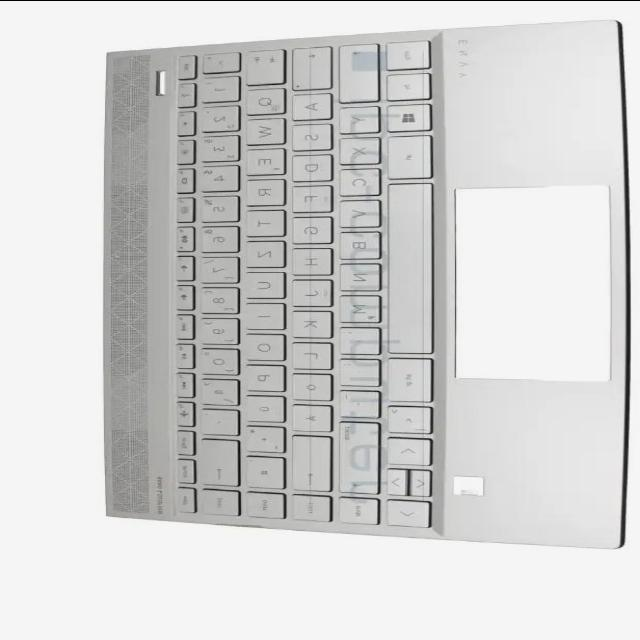0: (194, 345, 236, 373)
1: (197, 74, 237, 100)
2: (197, 102, 237, 130)
3: (195, 133, 237, 159)
4: (193, 163, 237, 189)
5: (196, 192, 236, 220)
6: (196, 224, 236, 250)
7: (194, 254, 236, 280)
8: (195, 284, 237, 312)
9: (196, 314, 236, 342)
a: (287, 90, 329, 118)
accent: (196, 406, 236, 432)
ae: (287, 401, 331, 429)
alt-left: (382, 132, 429, 178)
altgr-right: (382, 354, 429, 400)
b: (334, 228, 378, 258)
c: (335, 165, 379, 194)
caret: (199, 49, 237, 70)
comma: (334, 324, 378, 352)
d: (287, 151, 331, 179)
del: (192, 435, 236, 483)
e: (240, 145, 282, 173)
enter: (286, 432, 330, 488)
f: (287, 182, 329, 210)
g: (287, 214, 331, 242)
h: (287, 245, 331, 273)
hash: (242, 453, 282, 487)
i: (237, 299, 281, 327)
j: (287, 276, 331, 304)
k: (286, 308, 330, 336)
keyboard: (153, 29, 448, 536)
l: (287, 339, 331, 367)
m: (334, 292, 380, 322)
minus: (335, 387, 377, 415)
n: (335, 261, 379, 290)
o: (237, 330, 283, 358)
oe: (287, 370, 331, 398)
p: (238, 361, 282, 389)
plus: (240, 422, 282, 450)
point: (335, 356, 377, 384)
q: (241, 85, 283, 113)
r: (241, 176, 283, 204)
s: (287, 121, 331, 149)
shift-left: (333, 41, 377, 101)
shift-lock: (286, 44, 330, 88)
shift-right: (334, 417, 378, 493)
space: (382, 178, 428, 352)
ss: (196, 375, 236, 403)
strg-left: (381, 38, 428, 68)
t: (239, 208, 283, 234)
tab: (240, 47, 282, 83)
u: (239, 269, 283, 297)
ue: (238, 392, 282, 420)
v: (334, 197, 378, 226)
w: (241, 115, 283, 143)
x: (334, 135, 378, 163)
y: (334, 104, 378, 132)
z: (239, 238, 283, 266)
